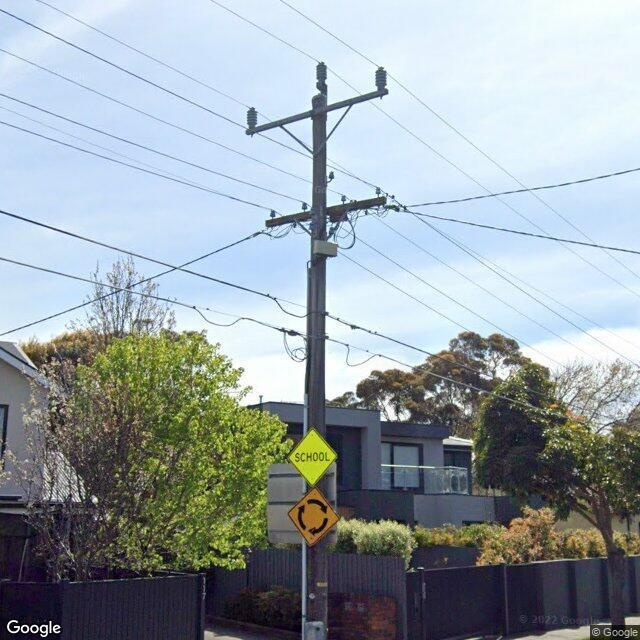HV-transmission: (247, 62, 386, 130)
crossarm: (246, 88, 388, 136), (265, 196, 387, 228)
timber-pole: (308, 93, 328, 629)
